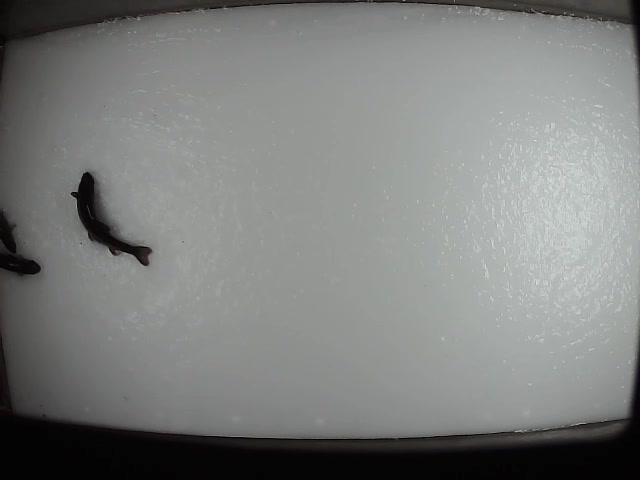Fish: (71, 172, 153, 266)
